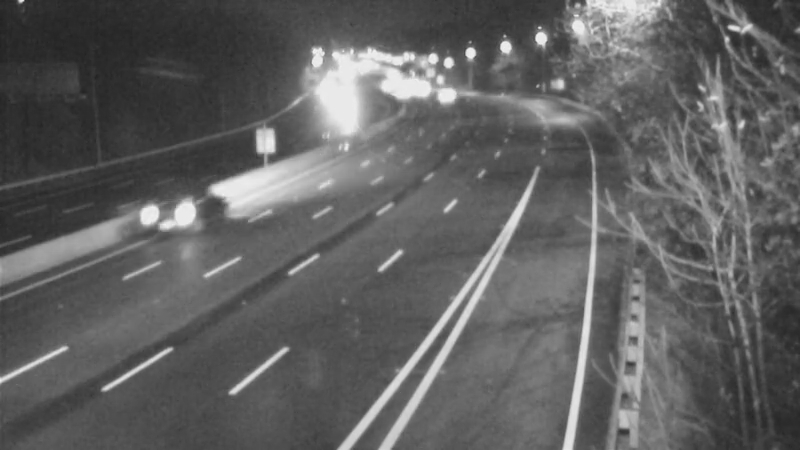vehicle: (116, 178, 196, 258), (420, 68, 470, 118), (376, 68, 426, 118), (319, 87, 369, 137)
